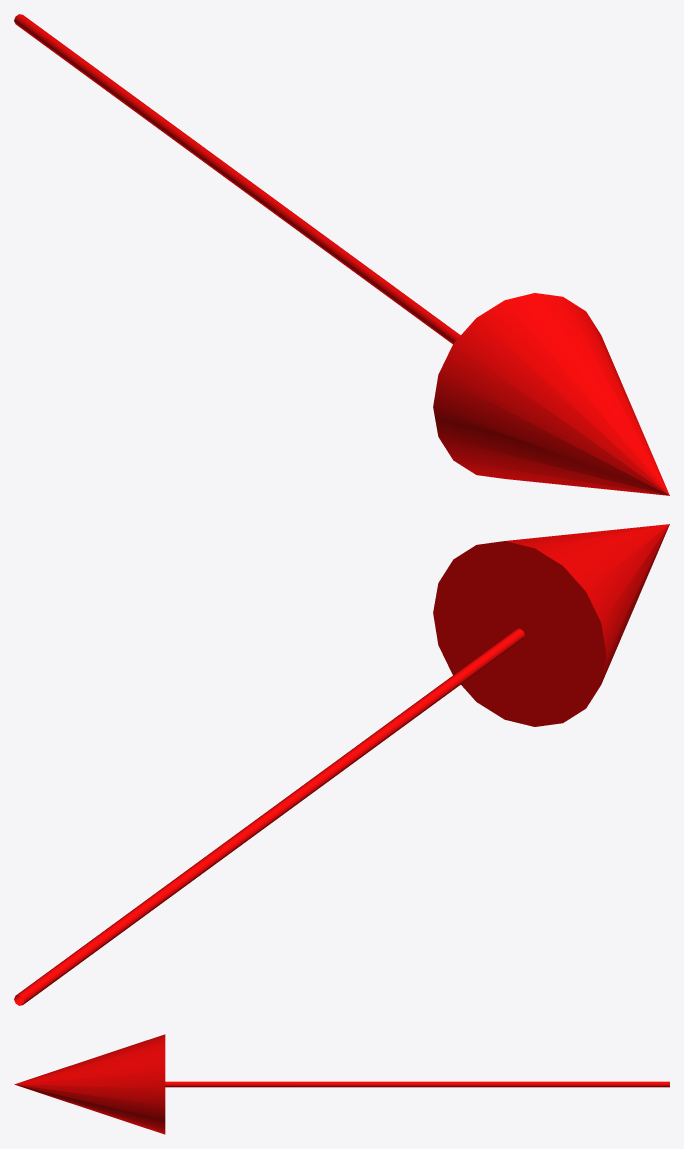
The model's file is Axis_Position.FBX.
The picture shows the model from 3 angles, top to bottom: view 1: azimuth 30°, elevation 25°; view 2: azimuth 150°, elevation 25°; view 3: azimuth 270°, elevation 25°; orthographic projection. The views are drawn at different scales.
Parts seen in each view (by area): view 1: Position; view 2: Position; view 3: Position.
Boxes of the visible parts, left/top/right/bottom form: Position: left=14, top=14, right=669, bottom=495; Position: left=14, top=524, right=669, bottom=1005; Position: left=14, top=1034, right=669, bottom=1134.
Bounding box in the file's own units: 20 × 19.7 × 130.
